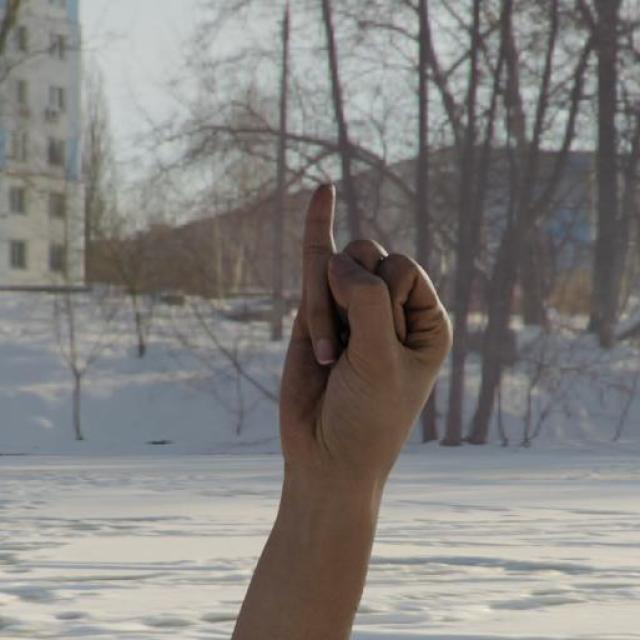I: (244, 148, 472, 530)
